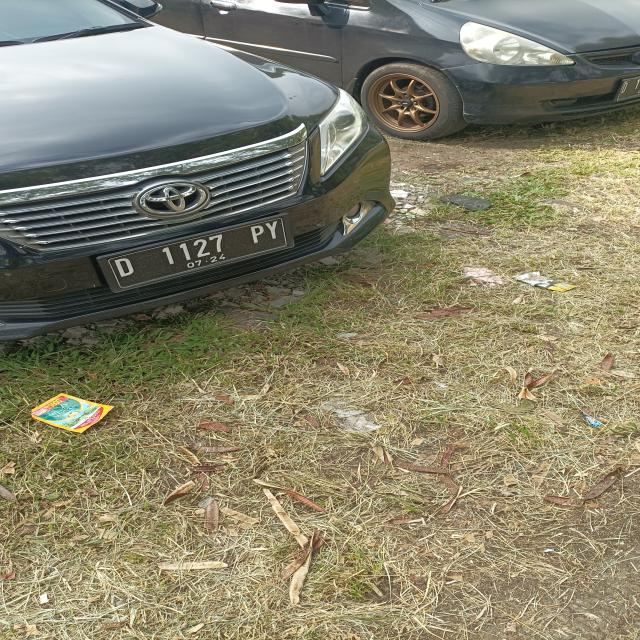license-plat: (89, 209, 301, 299)
